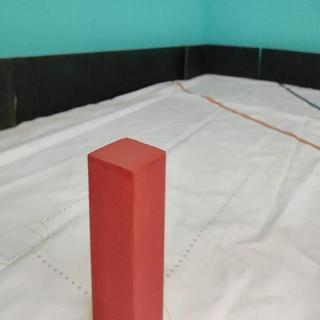redbox: (85, 135, 165, 320)
